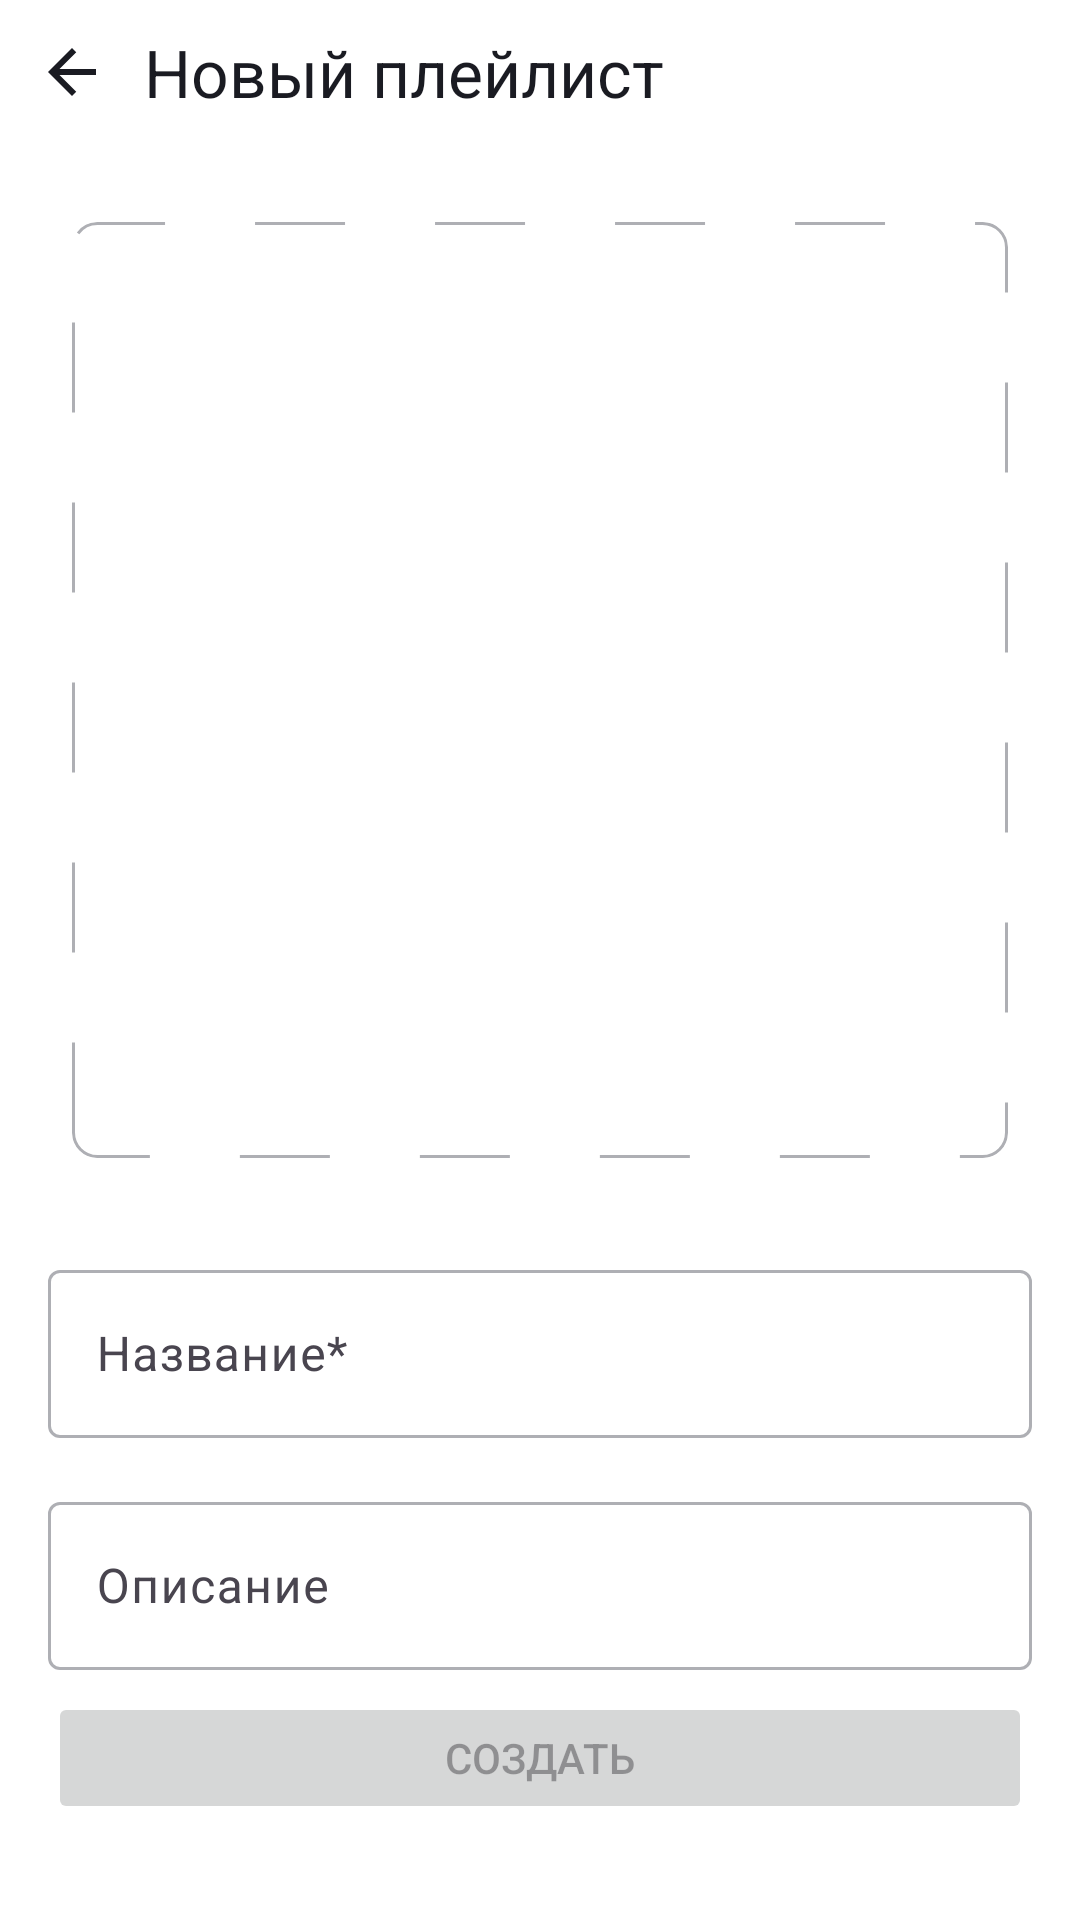

Where icons sit on this 1080×1920 app screen, as {"x1": x1, "y1": y1, "x2": x2, "y2": y2}:
arrow back: {"x1": 48, "y1": 48, "x2": 96, "y2": 96}
